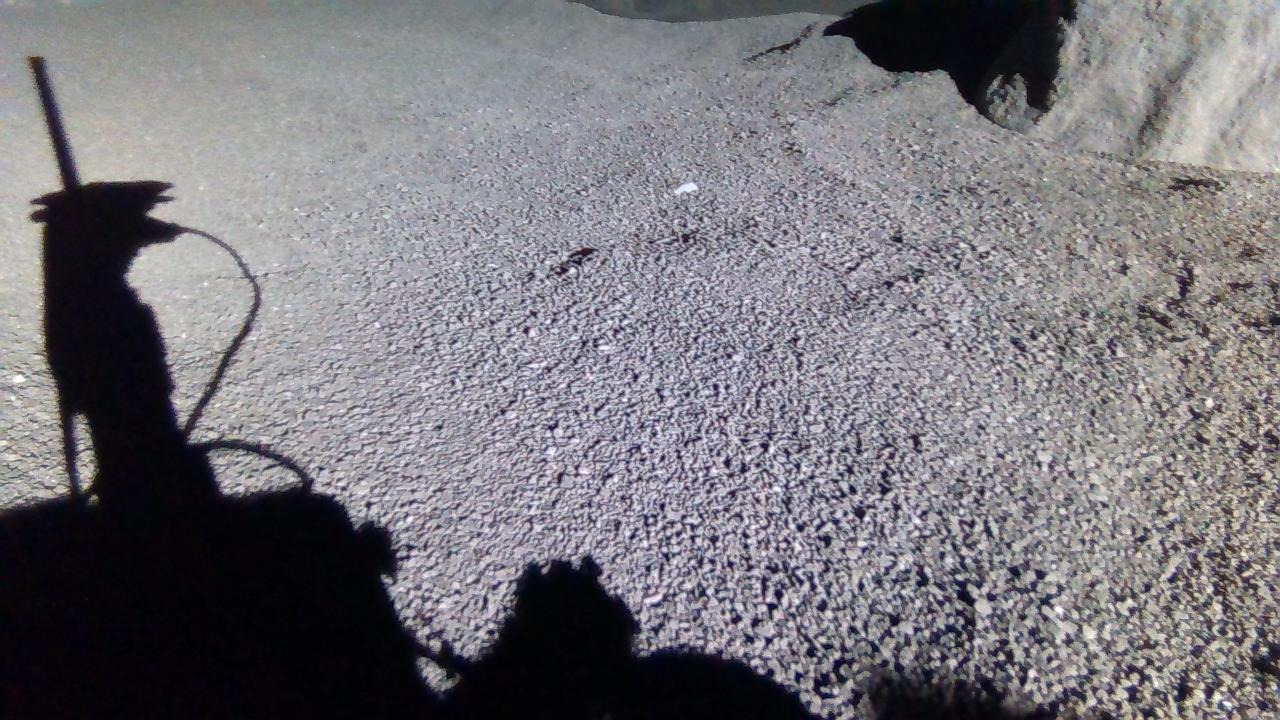rock: (979, 0, 1280, 170)
